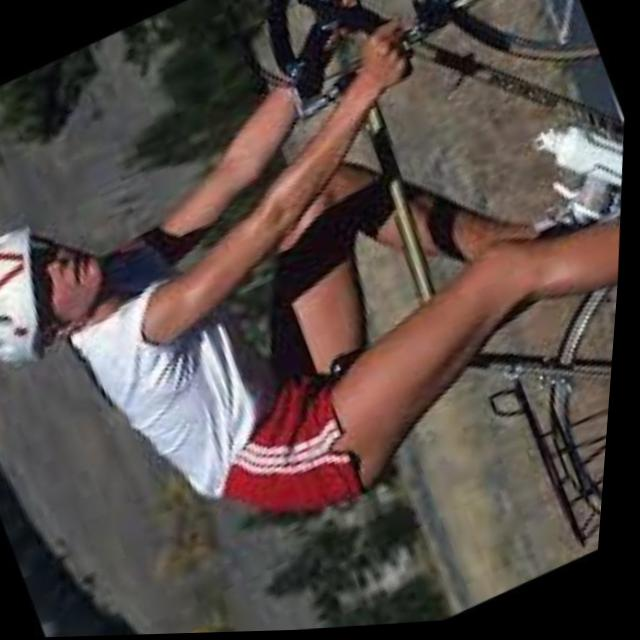WITH_HELMET: (0, 214, 91, 381)
